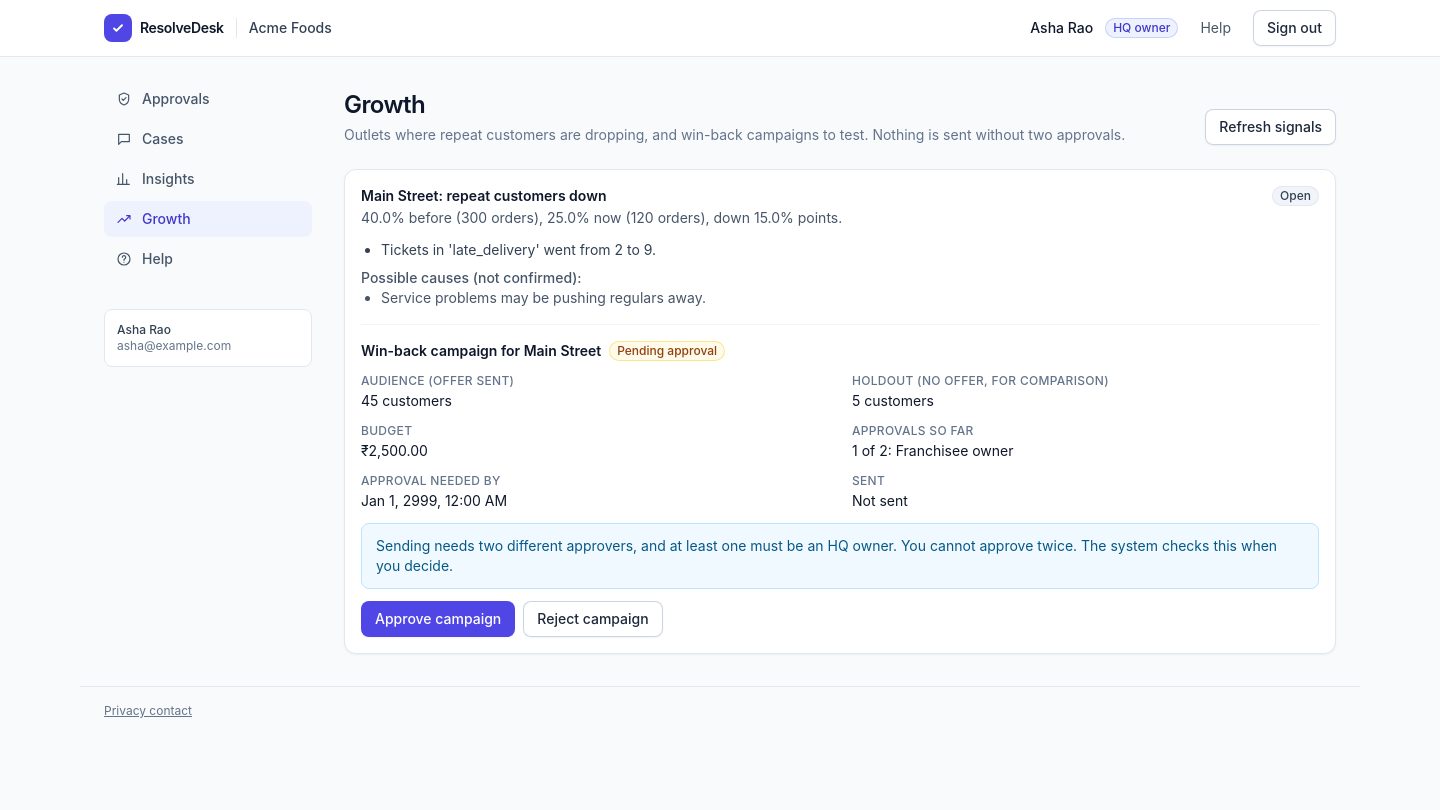
Test: growth page › shows the server's error when the approval is refused
Click the button "Approve campaign": point(438, 619) [361,601,515,637]
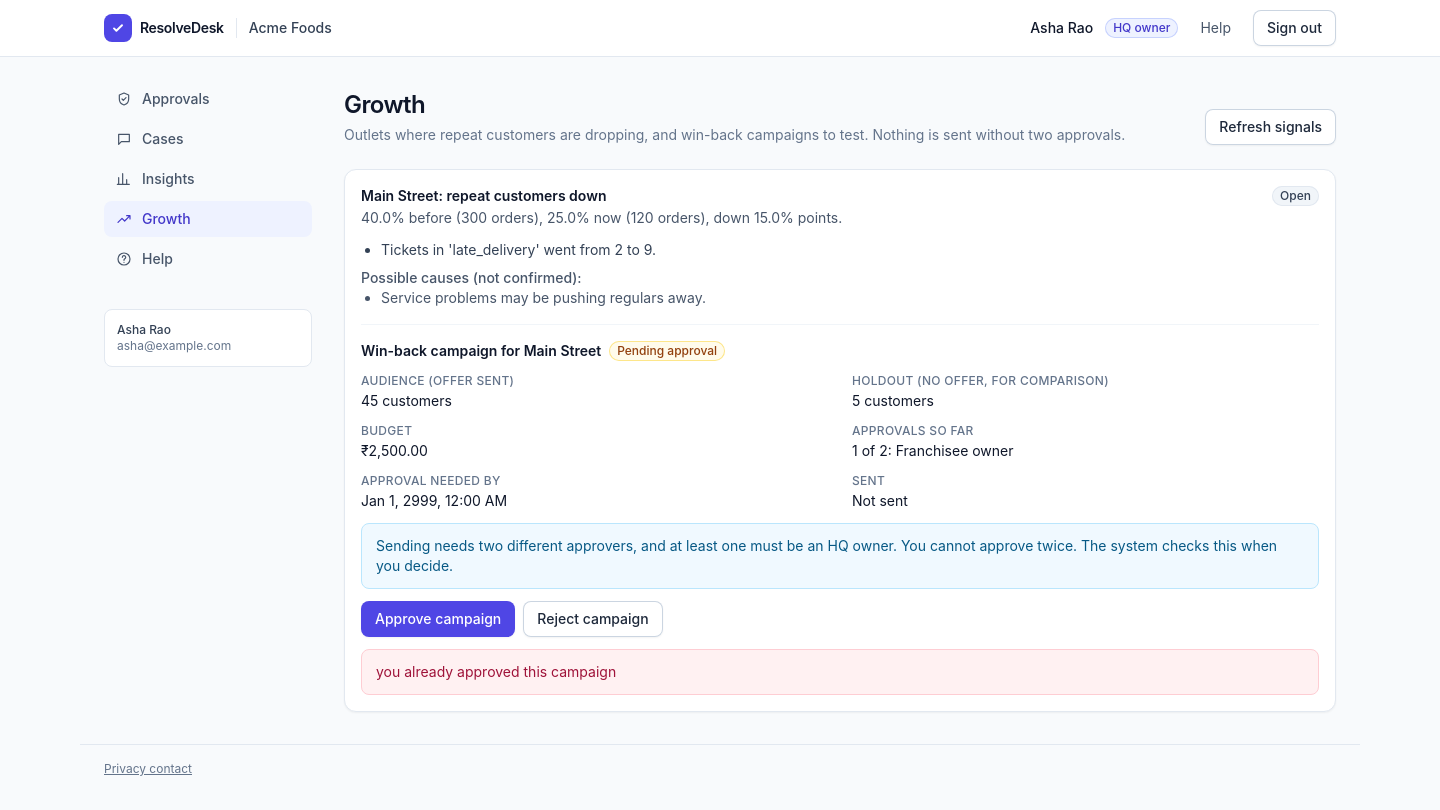
Check: the text "you already approved this campaign" is shown, box [361,649,1319,695]
